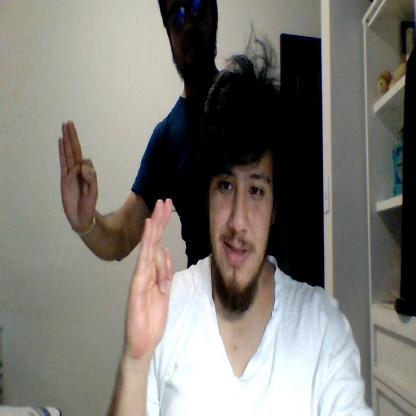F: (124, 199, 173, 353), (58, 120, 98, 230)
